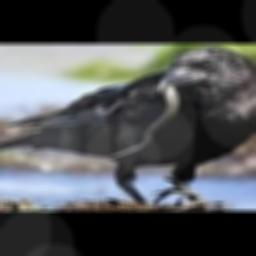Crow: (0, 48, 256, 204)
